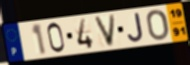0: (46, 22, 66, 54)
1: (31, 23, 48, 57)
4: (76, 18, 95, 50)
J: (127, 11, 145, 43)
O: (146, 9, 171, 42)
V: (93, 14, 117, 49)
